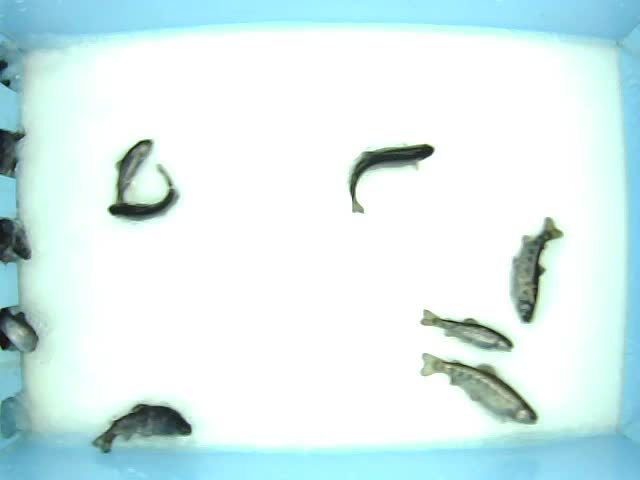fish: (419, 352, 540, 426), (347, 141, 437, 216), (510, 215, 564, 325), (89, 402, 193, 456), (106, 162, 181, 226), (419, 305, 515, 353), (113, 138, 155, 206)
